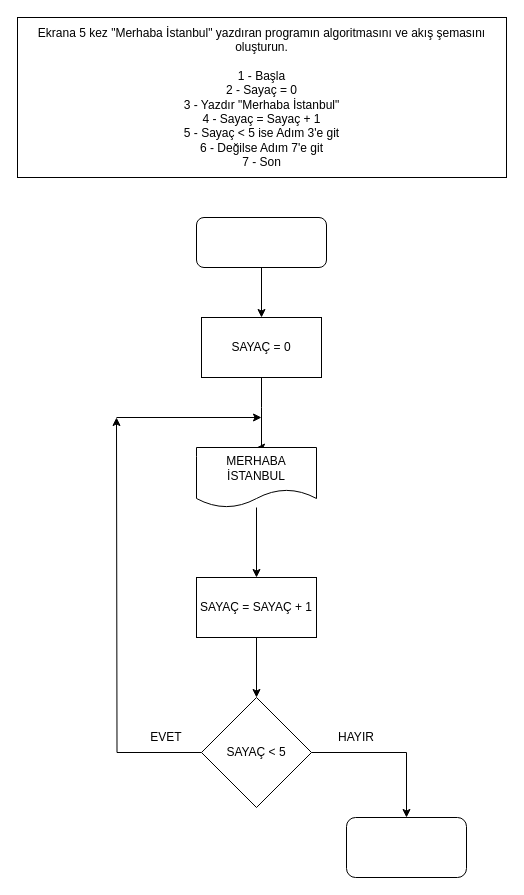
Some shapes in this 524 by 895 pixel diagram are drawn without their labels. Each missing label, with the box of its shape:
BAŞLA: (196, 216, 326, 268)
SON: (346, 816, 466, 878)
